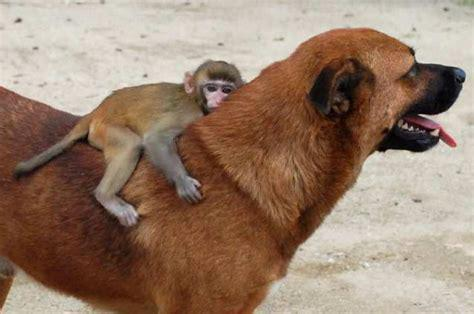dog: (1, 27, 464, 313)
monkey: (14, 60, 239, 225)
